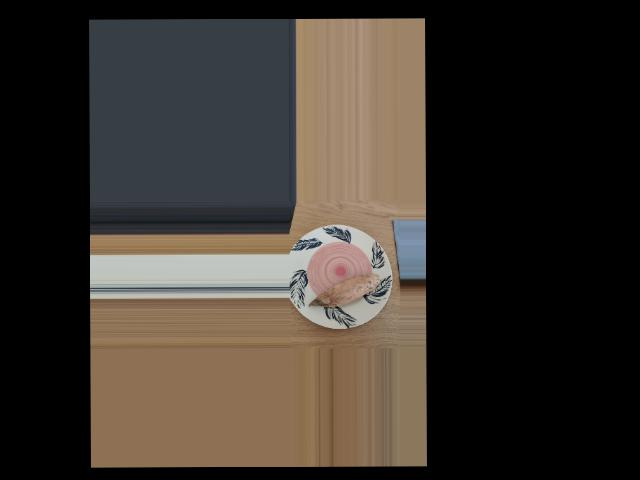sweet_potato: (316, 271, 375, 307)
